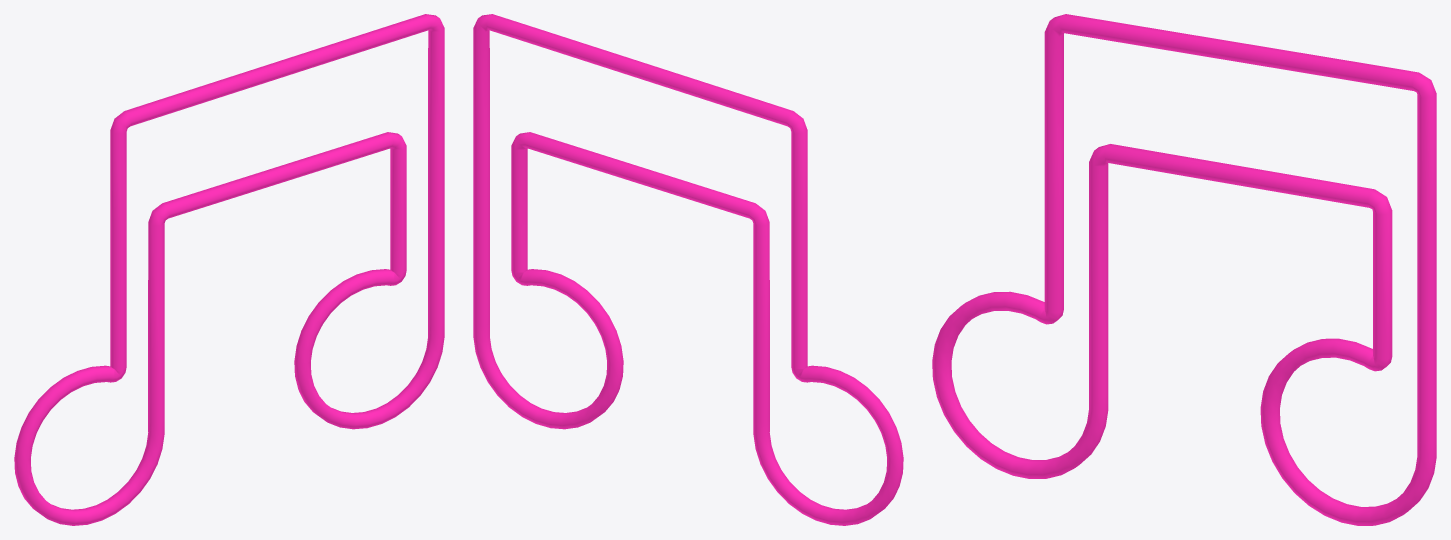
The model's file is 3e08df32-7424-4ba3-9832-e3dcdefd3582.glb.
The picture shows the model from 3 angles, left to right: view 1: azimuth 30°, elevation 25°; view 2: azimuth 150°, elevation 25°; view 3: azimuth 330°, elevation 25°; orthographic projection. The views are drawn at different scales.
Visible parts, largest first — view 1: LiveMusic - 1008 tris; view 2: LiveMusic - 1008 tris; view 3: LiveMusic - 1008 tris.
Boxes of the visible parts, <box> form: LiveMusic - 1008 tris: <box>14,14,444,525</box>; LiveMusic - 1008 tris: <box>473,14,903,525</box>; LiveMusic - 1008 tris: <box>932,14,1436,525</box>.
Size of the model in its own units: 0.503 by 0.4785 by 0.0169.
Materials: 1 (1 with a texture image).
